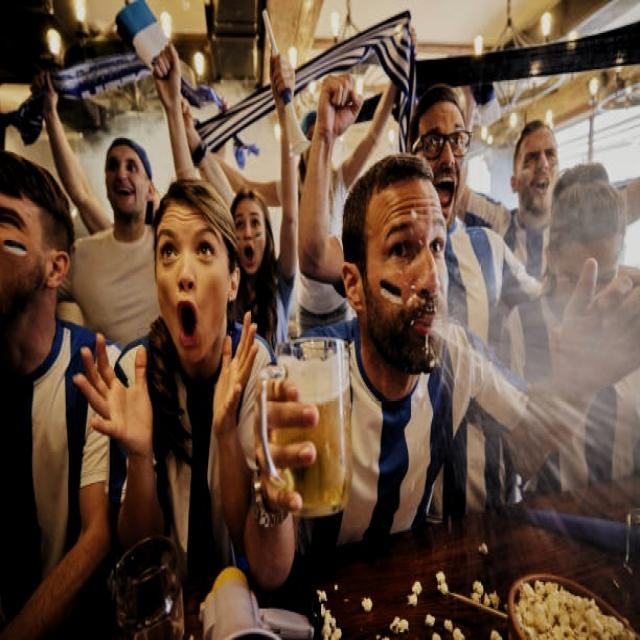Spitting: (336, 160, 496, 416)
